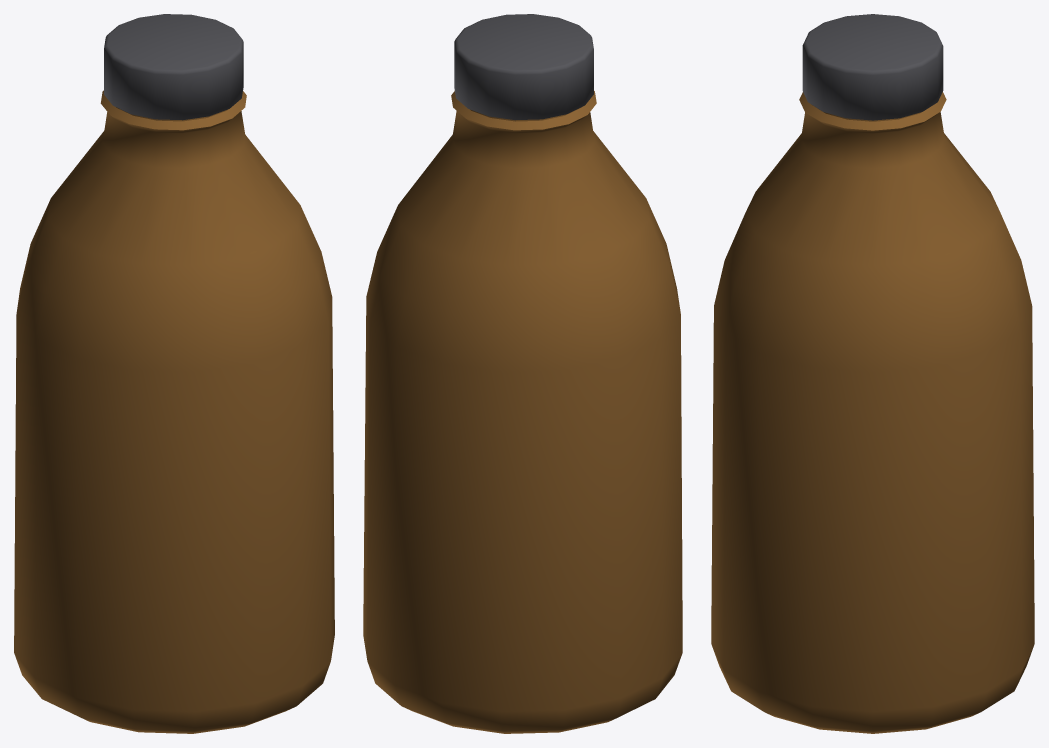
File: bottle_growler_lod2.glb
3 renders of one model, left to right at view 1: azimuth 30°, elevation 25°; view 2: azimuth 150°, elevation 25°; view 3: azimuth 270°, elevation 25°, orthographic.
Parts seen in each view (by area): view 1: Glass, Cap; view 2: Glass, Cap; view 3: Glass, Cap.
Boxes of the visible parts, x1,y1,x2,y2 form: Glass: (14,90,334,733); Cap: (104,14,243,120); Glass: (363,91,682,733); Cap: (454,14,593,120); Glass: (711,92,1034,733); Cap: (802,14,943,120).
Bounding box in the file's own units: 0.1003 × 0.2172 × 0.1007.
